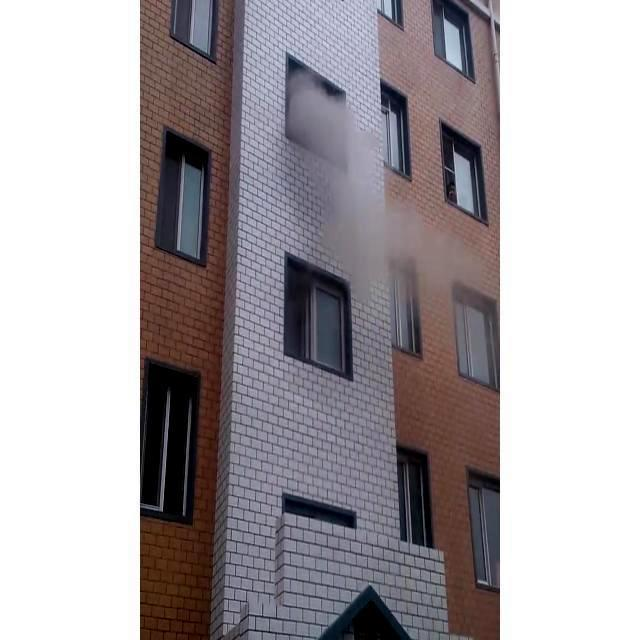Smoke: (290, 72, 442, 321)
